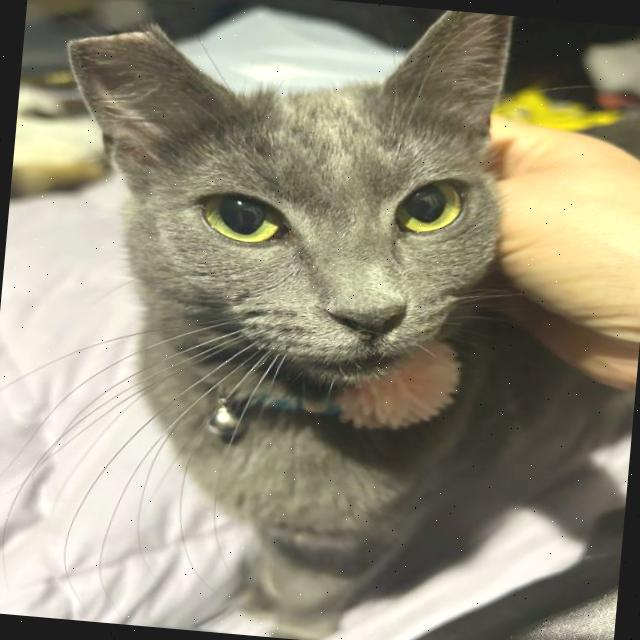russian_blue_cat: (33, 0, 521, 407)
